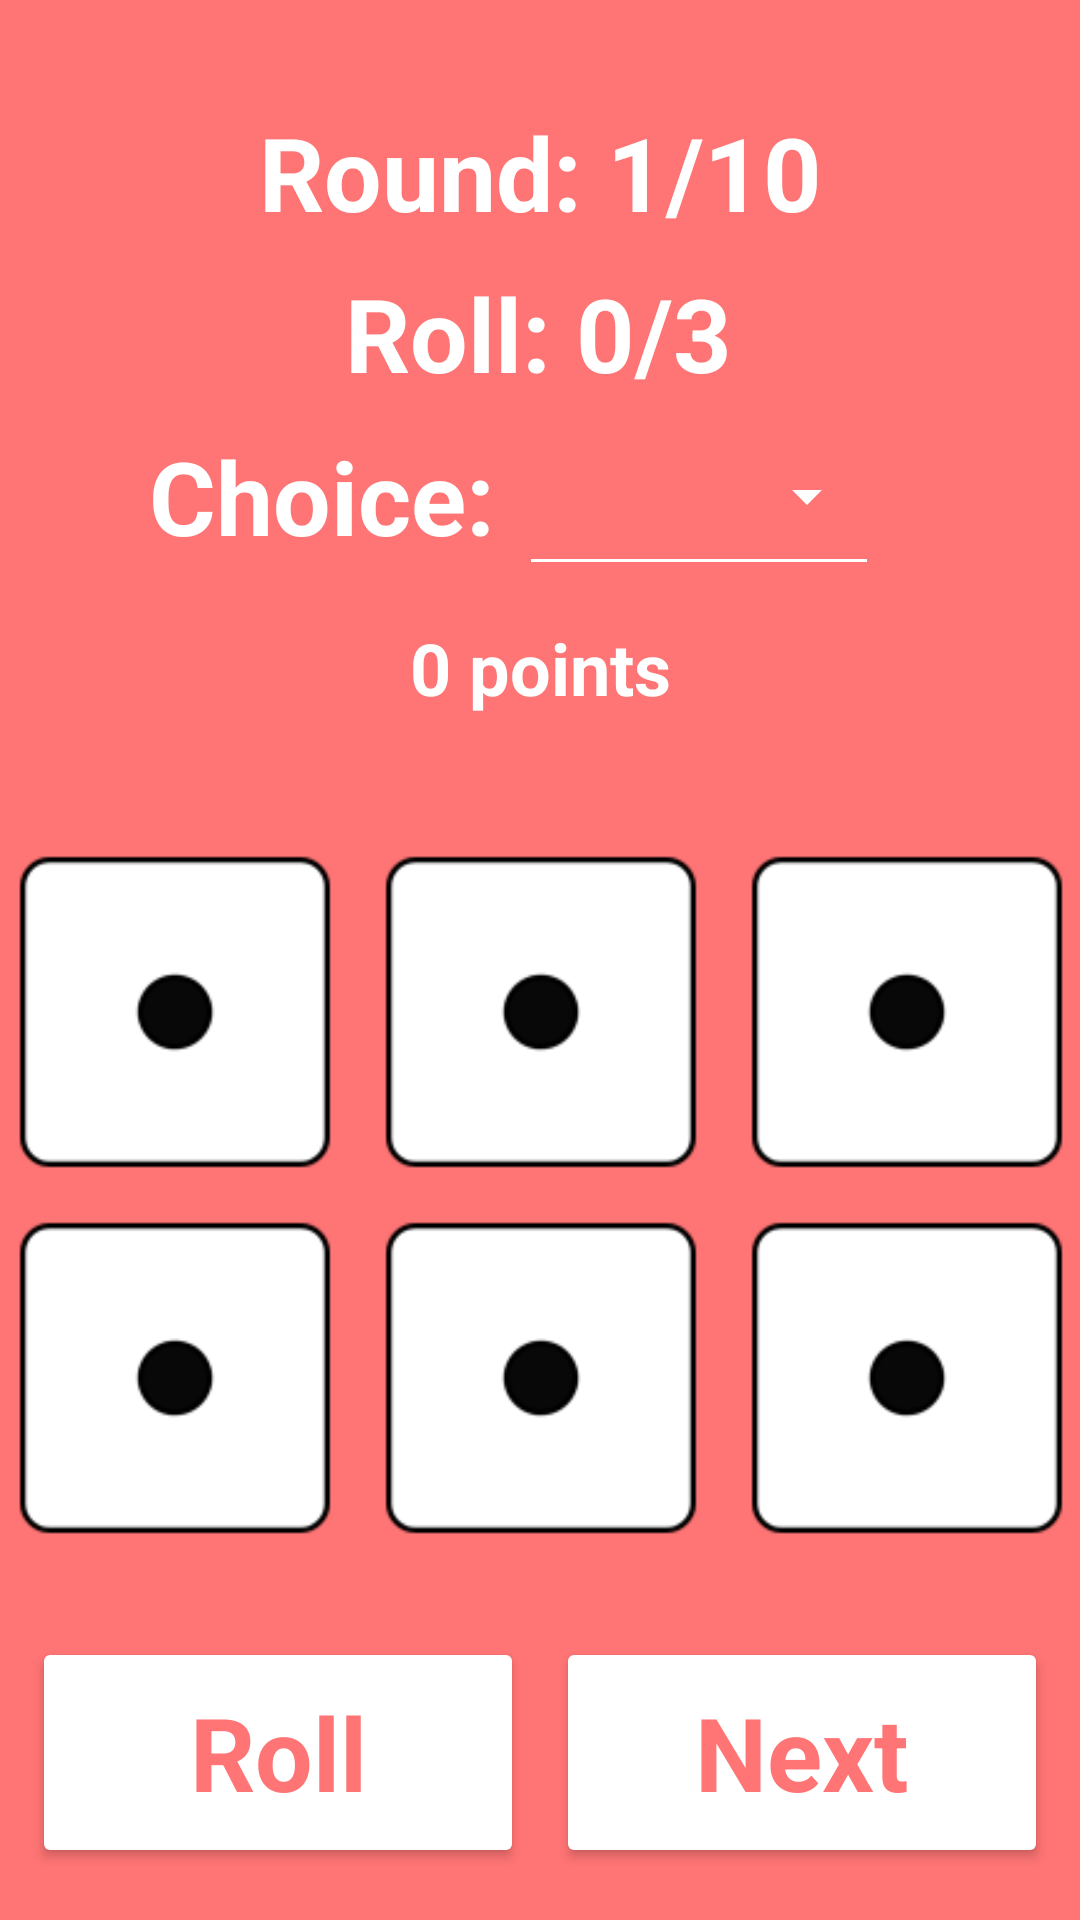

Named icons in this screenshot (1080 x 1920) and their bounding boxes, [left=x1, top=y1, right=x2, bottom=y2]:
dice: [left=19, top=856, right=331, bottom=1168], [left=385, top=856, right=697, bottom=1168], [left=751, top=856, right=1063, bottom=1168], [left=19, top=1222, right=331, bottom=1534], [left=385, top=1222, right=697, bottom=1534], [left=751, top=1222, right=1063, bottom=1534]
